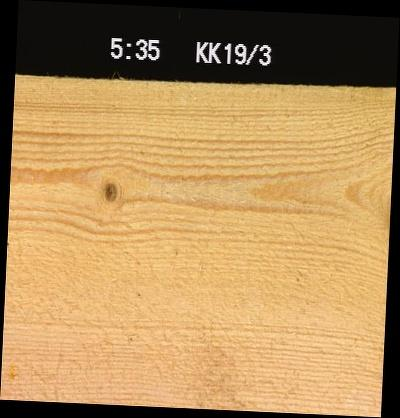sound_knot: (101, 180, 118, 202)
